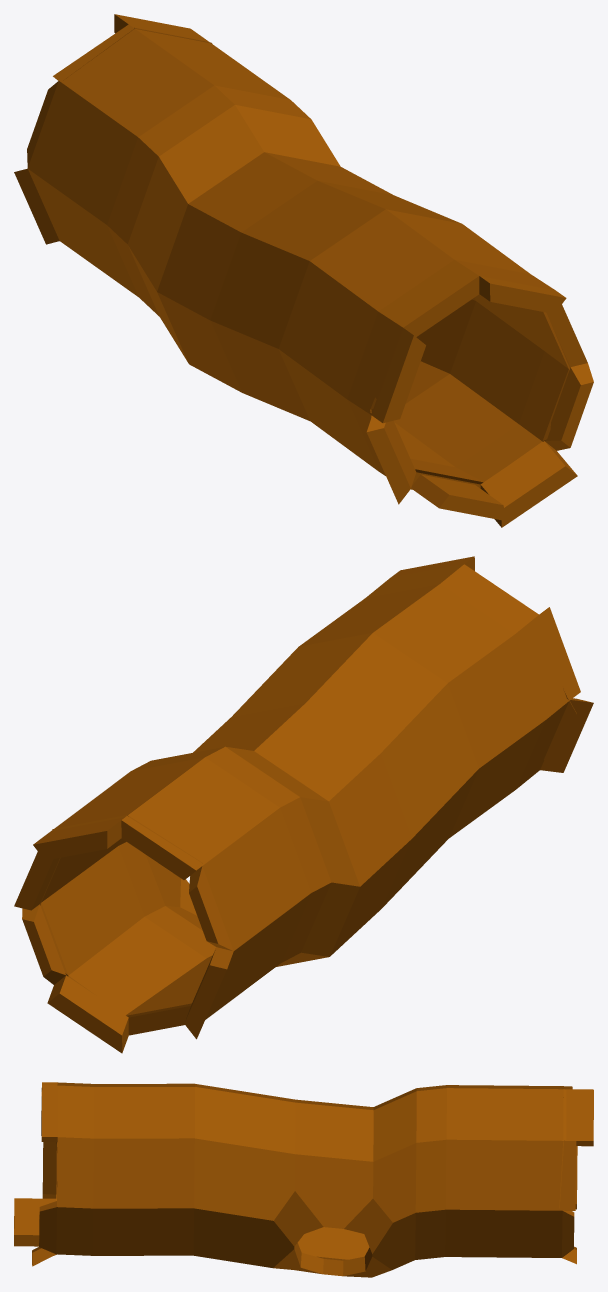
Rendered from ENVI_Cylinder.fbx.
The picture shows the model from 3 angles, top to bottom: view 1: azimuth 30°, elevation 25°; view 2: azimuth 150°, elevation 25°; view 3: azimuth 270°, elevation 25°; orthographic projection. The views are drawn at different scales.
Visible parts, largest first — view 1: Cylinder; view 2: Cylinder; view 3: Cylinder.
Boxes of the visible parts, <box> form: Cylinder: <box>14,14,593,527</box>; Cylinder: <box>14,556,593,1053</box>; Cylinder: <box>14,1082,593,1277</box>.
Bounding box in the file's own units: 86.08 × 92.66 × 255.
